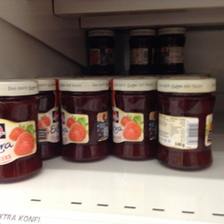jam: (156, 78, 216, 170), (1, 80, 45, 184), (58, 77, 111, 162), (111, 78, 157, 163), (157, 26, 186, 76), (87, 28, 116, 77), (128, 28, 156, 75)
